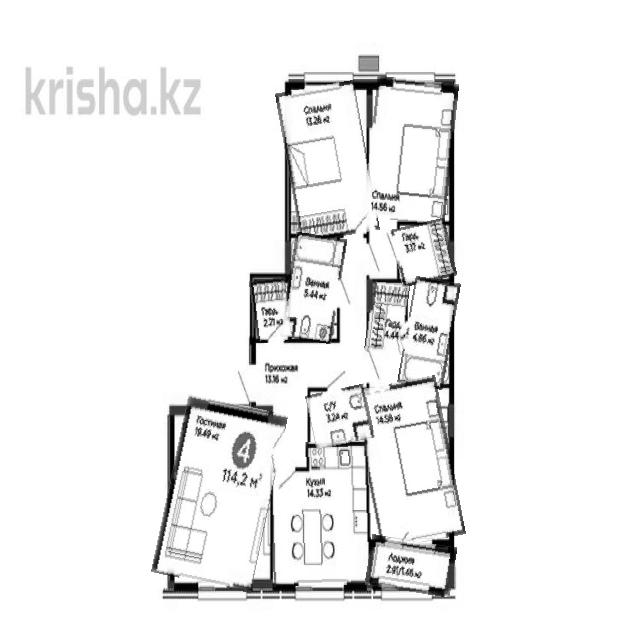balcony: (367, 537, 456, 594)
bathroom: (284, 234, 344, 342), (401, 277, 457, 388), (308, 386, 372, 447)
hallway: (253, 345, 309, 408)
kitchen: (270, 441, 371, 587)
living_room: (160, 399, 280, 589), (359, 378, 459, 548), (282, 83, 374, 241), (366, 78, 456, 224)
other: (393, 220, 455, 285), (366, 282, 408, 354), (251, 278, 290, 343)
